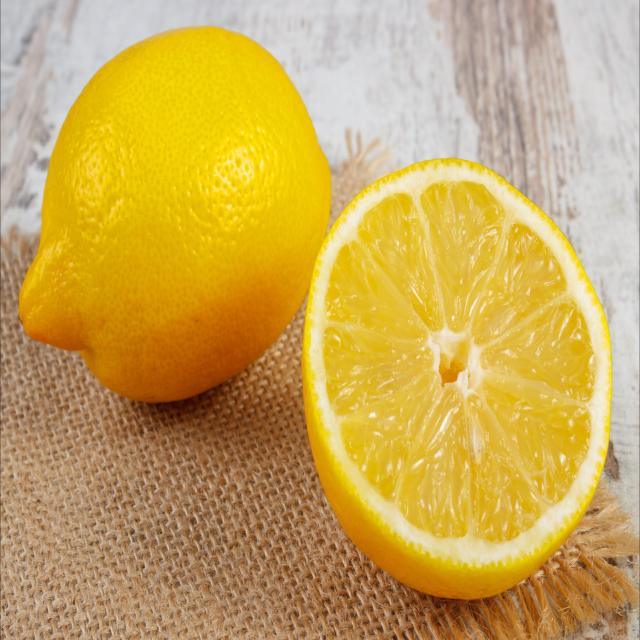lemon: (299, 152, 616, 605), (12, 21, 336, 416)
